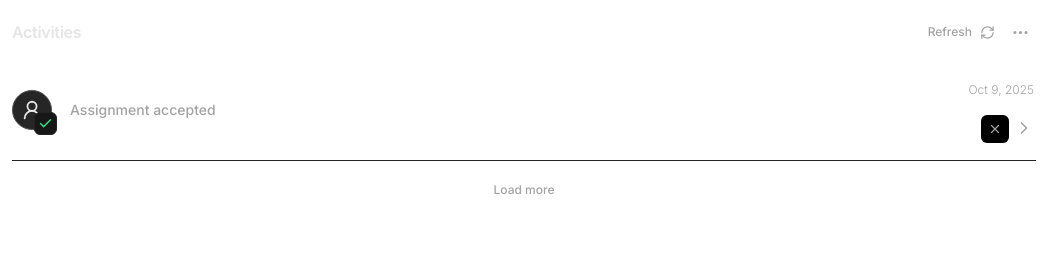
Test case: TileShareActivityTimeline › passes tilette scope, deduplicates pages, and clears history on revoked access
The image size is (1048, 279).
Expected: the text "Assignment accepted" is shown, [70, 101, 216, 118]
Click the button "Load more": (524, 190) [12, 173, 1036, 207]
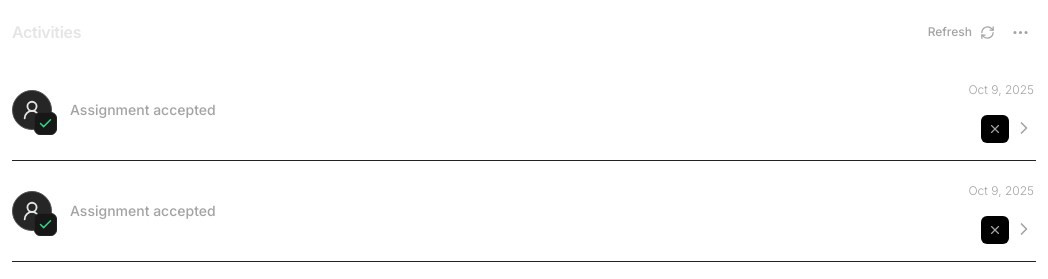
Expected: the text "Assignment accepted" is shown 2 times, [70, 101, 216, 118]; [70, 202, 216, 219]
Click the button "Refresh": (961, 32) [924, 15, 999, 49]
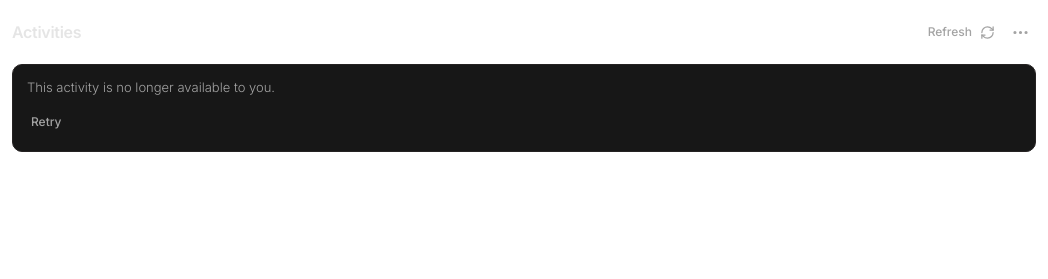
Expected: the text "This activity is no longer available to you." is shown, [27, 79, 275, 95]
Expected: the link "Assignment accepted" is gone
